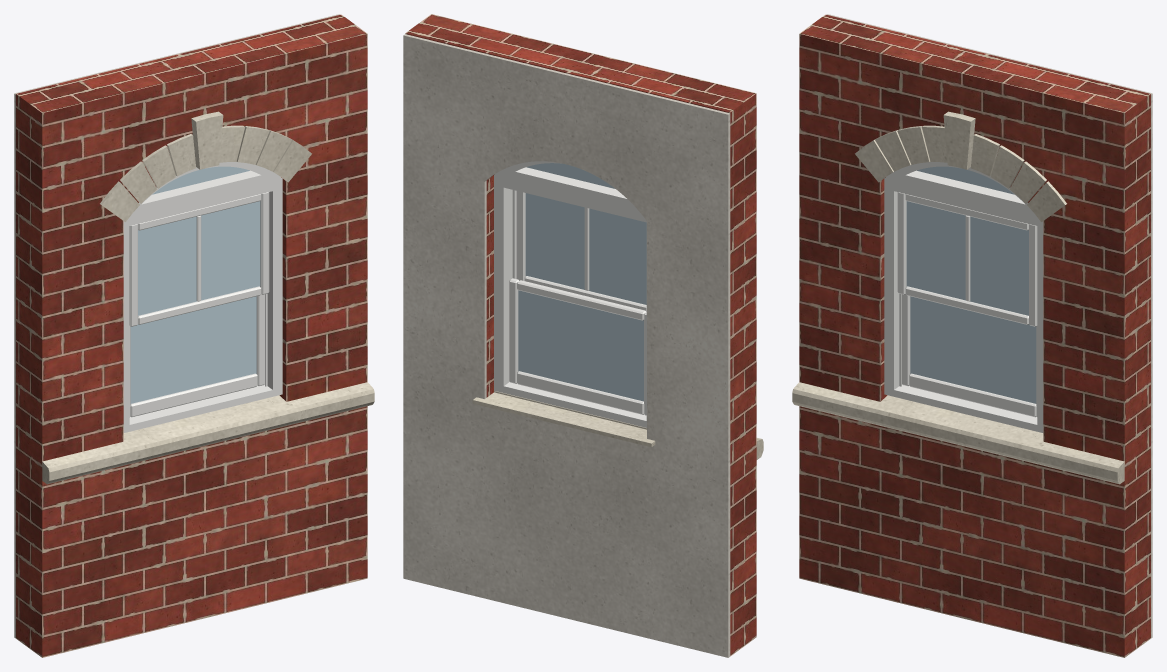
Rendered from o_u2_window.glb.
3 views of the same model, side by side, from view 1: azimuth 30°, elevation 25°; view 2: azimuth 150°, elevation 25°; view 3: azimuth 330°, elevation 25° (orthographic).
Visible parts, largest first — view 1: o_u2_window_brick, o_u2_window_glass, o_u2_window_trim, o_u2_window_frame, o_u2_window_sash, o_u2_window_plaster; view 2: o_u2_window_plaster, o_u2_window_brick, o_u2_window_glass, o_u2_window_frame, o_u2_window_sash, o_u2_window_trim; view 3: o_u2_window_brick, o_u2_window_glass, o_u2_window_trim, o_u2_window_frame, o_u2_window_sash, o_u2_window_plaster.
Part boxes in pixels (x1,y1,x2,y2): o_u2_window_brick: [16, 14, 367, 657]; o_u2_window_glass: [130, 166, 260, 403]; o_u2_window_trim: [42, 111, 374, 484]; o_u2_window_frame: [123, 162, 282, 432]; o_u2_window_sash: [129, 192, 269, 417]; o_u2_window_plaster: [14, 14, 340, 638]; o_u2_window_plaster: [403, 34, 730, 657]; o_u2_window_brick: [405, 14, 756, 656]; o_u2_window_glass: [518, 163, 646, 401]; o_u2_window_frame: [494, 161, 646, 427]; o_u2_window_sash: [509, 191, 646, 415]; o_u2_window_trim: [472, 391, 763, 459]; o_u2_window_brick: [799, 14, 1150, 657]; o_u2_window_glass: [906, 166, 1036, 403]; o_u2_window_trim: [792, 111, 1124, 484]; o_u2_window_frame: [884, 162, 1043, 432]; o_u2_window_sash: [897, 192, 1037, 417]; o_u2_window_plaster: [826, 14, 1152, 638].
Size of the model in its own units: 2 by 3.2 by 0.415.
6 materials, 3 textured.
